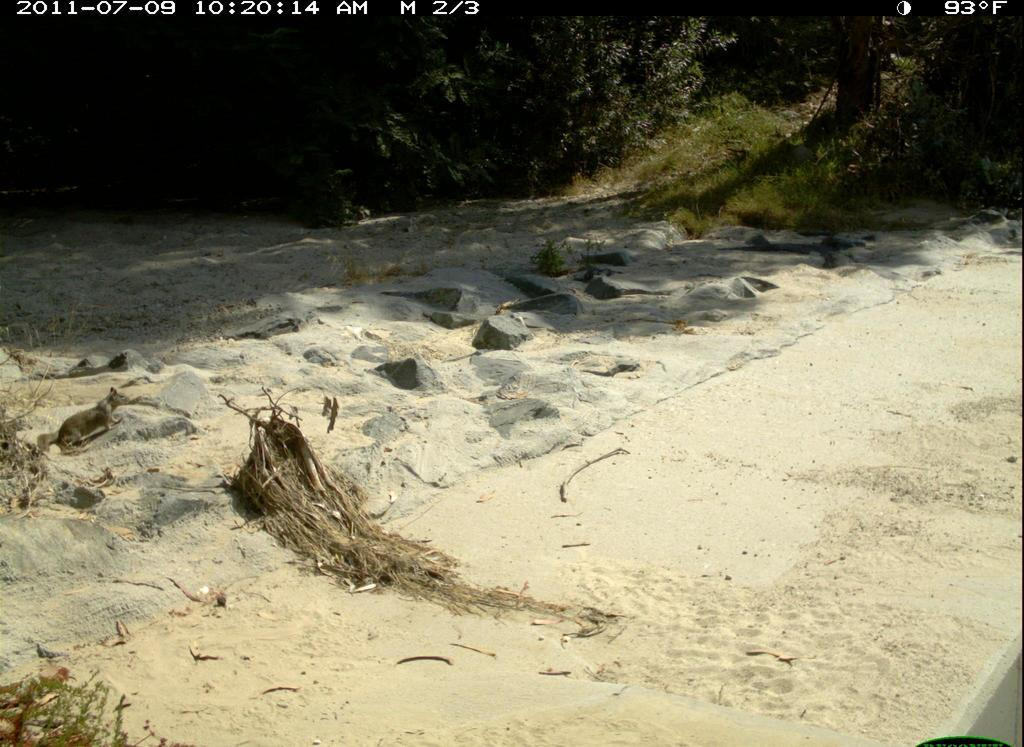squirrel: (38, 387, 130, 452)
